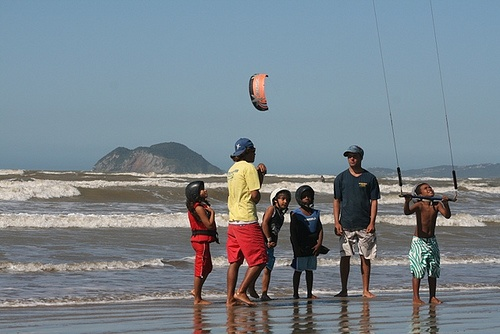head: (182, 179, 211, 204), (268, 185, 293, 212), (234, 138, 257, 164), (295, 184, 318, 210), (342, 145, 365, 171), (414, 180, 437, 201)
person: (331, 142, 379, 303), (222, 136, 266, 303), (402, 180, 452, 302), (287, 186, 324, 300), (185, 181, 217, 301), (257, 186, 290, 301)
